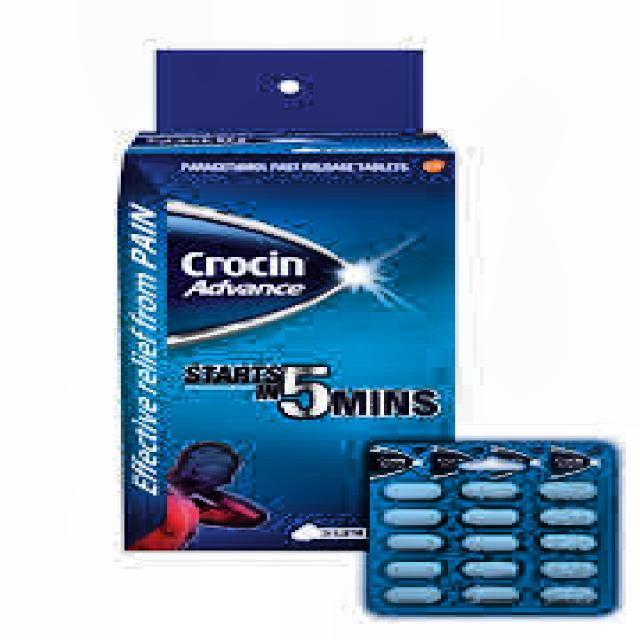Crocin: (166, 201, 367, 345)
